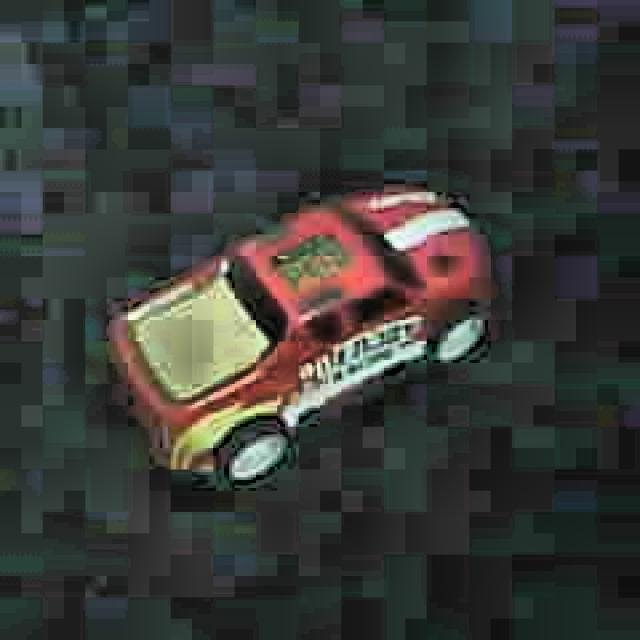car: (108, 180, 498, 491)
